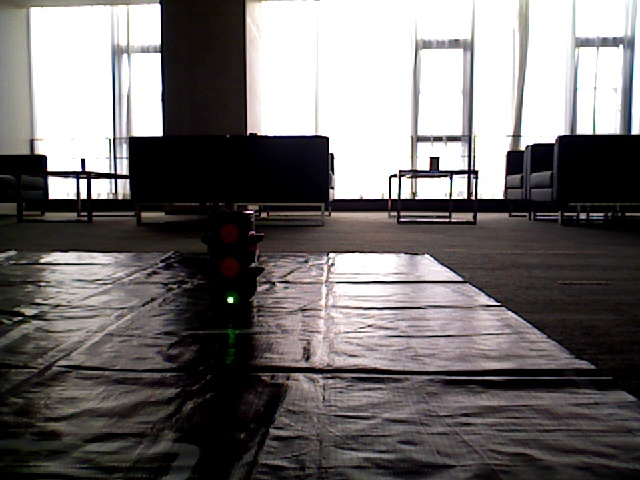green: (219, 214, 247, 312)
